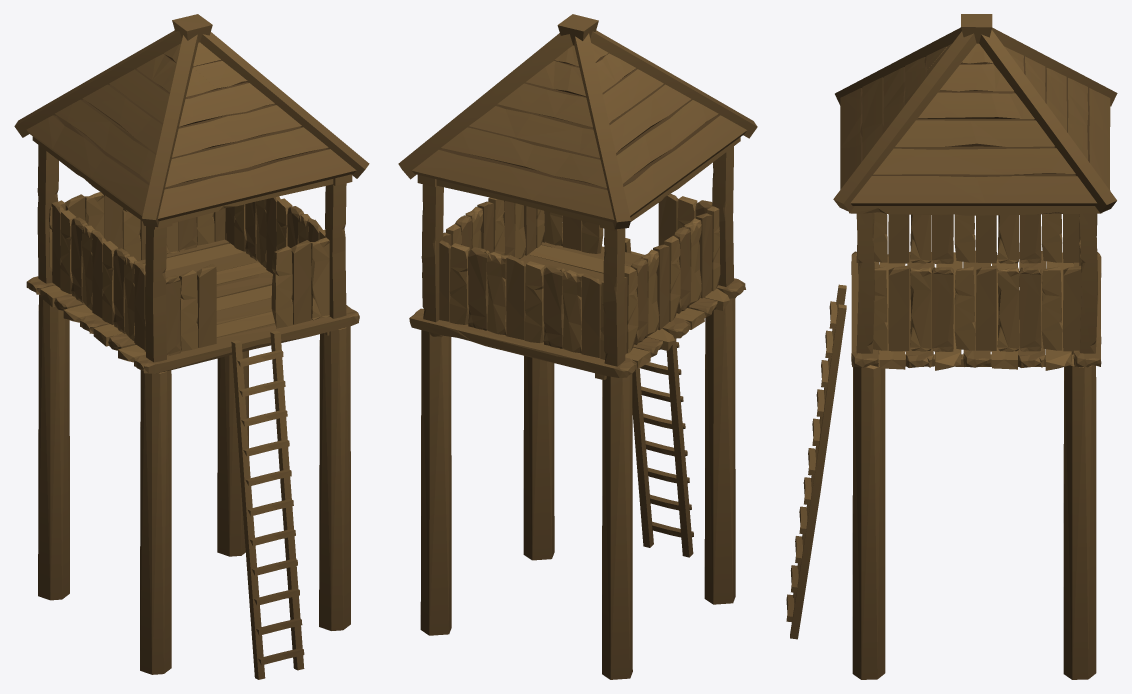
Rendered from Tower.fbx.
3 views of the same model, side by side, from view 1: azimuth 30°, elevation 25°; view 2: azimuth 150°, elevation 25°; view 3: azimuth 270°, elevation 25° (orthographic). The views are drawn at different scales.
Parts seen in each view (by area): view 1: Tower; view 2: Tower; view 3: Tower.
Part boxes in pixels (x1=…): Tower: x1=14, y1=14, x2=369, y2=679; Tower: x1=398, y1=14, x2=757, y2=679; Tower: x1=786, y1=14, x2=1117, y2=679.
Bounding box in the file's own units: 2.97 × 7.22 × 3.57.
